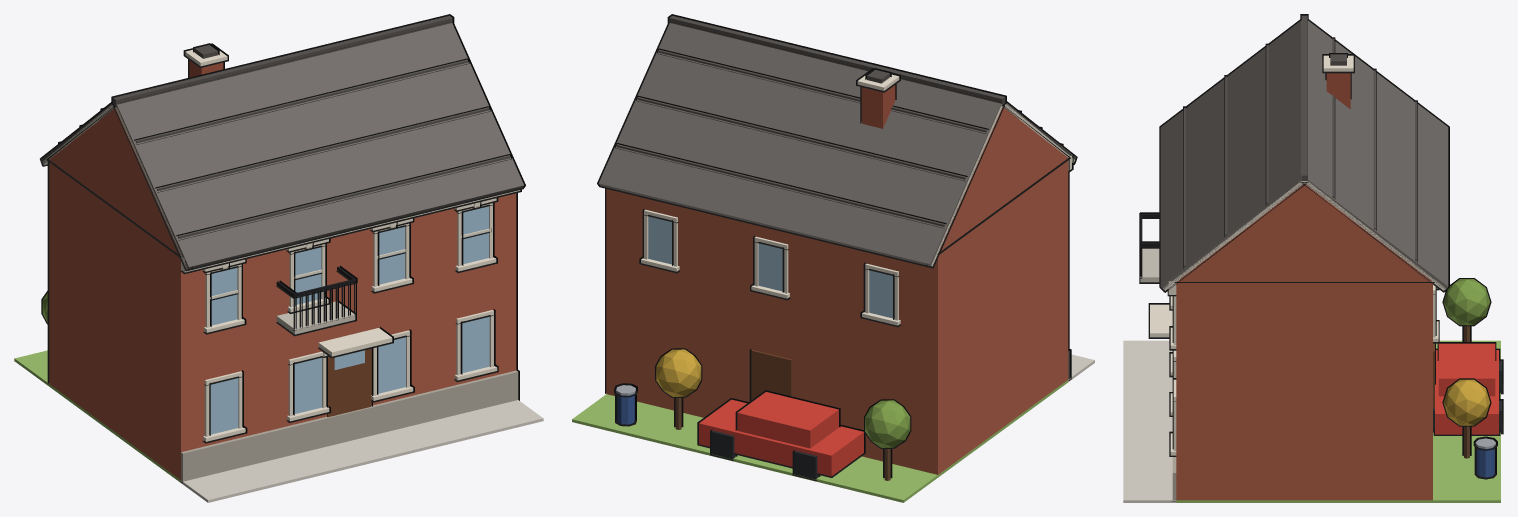
File: Blok_duz_2k_2.fbx
3 renders of one model, left to right at view 1: azimuth 30°, elevation 25°; view 2: azimuth 150°, elevation 25°; view 3: azimuth 270°, elevation 25°, orthographic. The views are drawn at different scales.
Parts seen in each view (by area): view 1: Blok_duz_2k_2; view 2: Blok_duz_2k_2; view 3: Blok_duz_2k_2.
Part boxes in pixels (box(x1,y1,x2,y2)): Blok_duz_2k_2: box(14, 14, 543, 502); Blok_duz_2k_2: box(572, 14, 1094, 502); Blok_duz_2k_2: box(1123, 14, 1503, 502).
Size of the model in its own units: 10.14 by 9.89 by 10.07.
